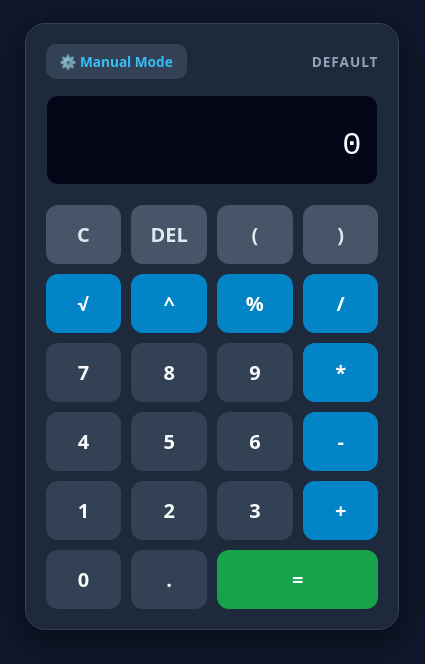
Test: App Component - Interface & Interactions › must display the error message returned by the API
Click the button "5".
click(169, 441)  # box [131,412,207,470]
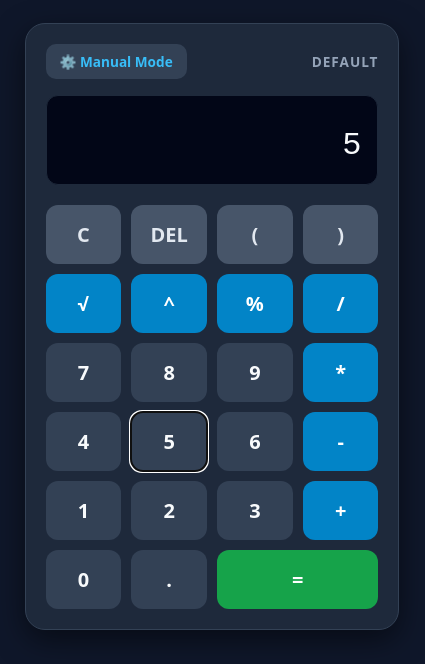
Click the button "/".
click(341, 303)  # box [303,274,378,332]
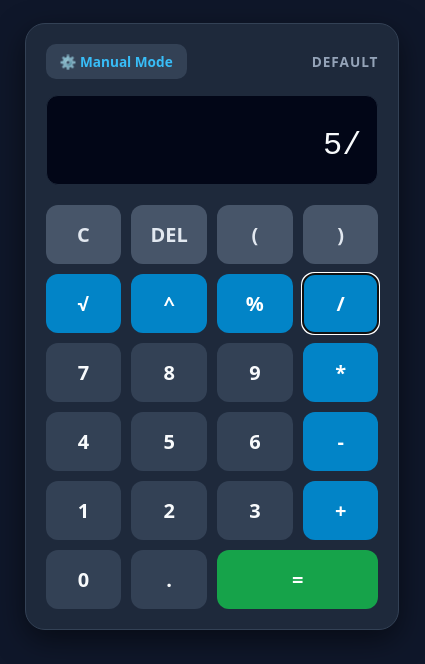
Click the button "0".
click(83, 579)  # box [46,550,121,608]
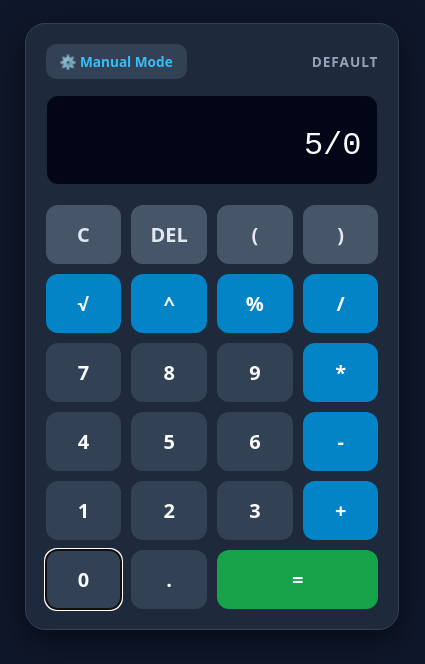
Click the button "=".
click(298, 579)  # box [217,550,378,608]
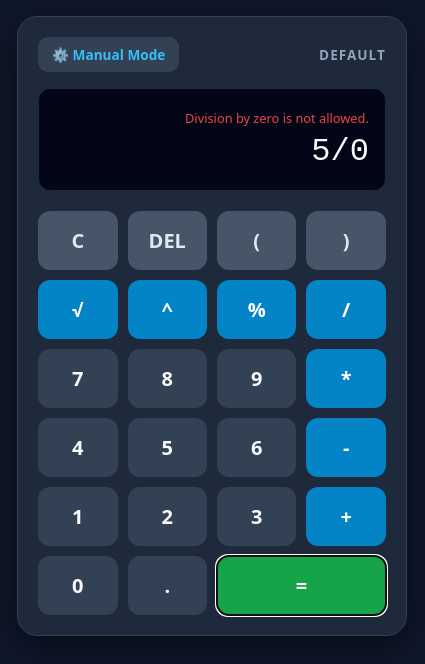
Result: the text "Division by zero is not allowed." is shown at [185,109,369,127]
